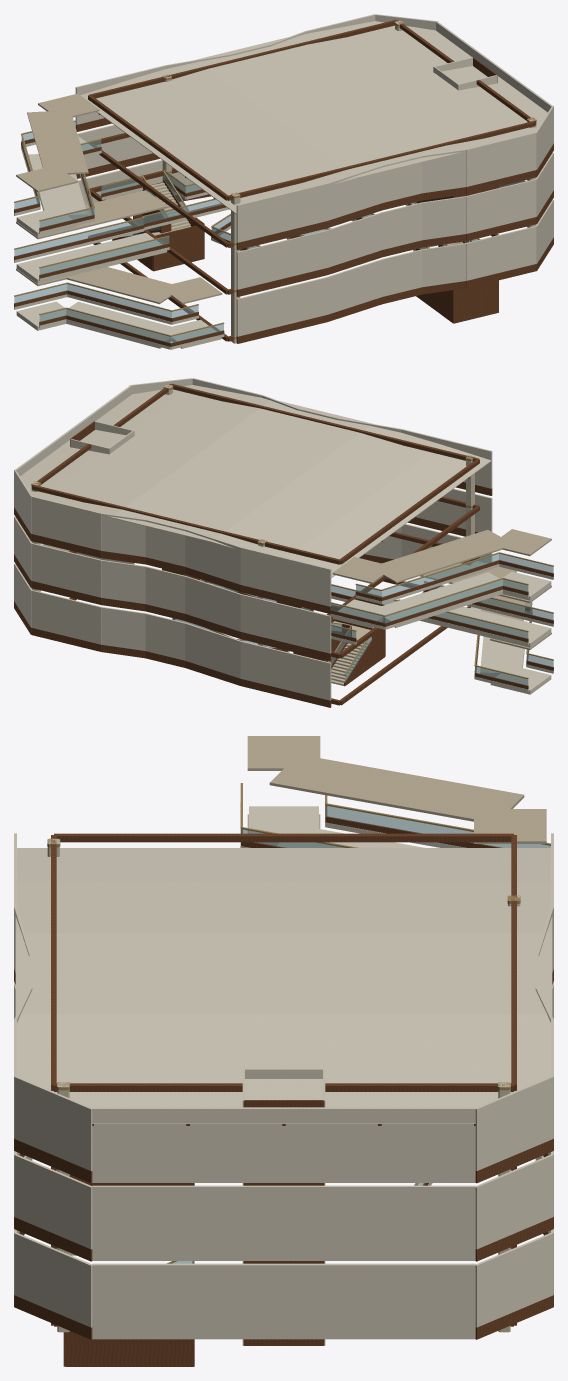
The model's file is AST-COM-003.glb.
The picture shows the model from 3 angles, top to bottom: view 1: azimuth 30°, elevation 25°; view 2: azimuth 150°, elevation 25°; view 3: azimuth 270°, elevation 25°; orthographic projection. The views are drawn at different scales.
Visible parts, largest first — view 1: HC_TopCeiling_2, HC_TopCeiling_1, HC_TopCeiling_3, HC_TopCeiling_0, HC_ProfileWall_D16_1_0, HC_ProfileWall_D17_1_0, HC_ProfileWall_D15_1_0, HC_TopCeiling_4, HC_ArrivalCanopy_D17_1, HC_ProfileWall_D15_1_4, HC_ProfileWall_D16_1_4, HC_ProfileWall_D17_1_4 (+57 smaller); view 2: HC_TopCeiling_2, HC_TopCeiling_1, HC_TopCeiling_3, HC_TopCeiling_0, HC_ProfileWall_D15_-1_0, HC_ProfileWall_D16_-1_0, HC_ProfileWall_D17_-1_0, HC_TopCeiling_4, HC_ArrivalCanopy_D17_1, HC_ProfileWall_D17_-1_4, HC_ProfileWall_D15_-1_4, HC_ProfileWall_D16_-1_4 (+53 smaller); view 3: HC_TopCeiling_2, HC_TopCeiling_3, HC_RearWall_D15, HC_RearWall_D16, HC_RearWall_D17, HC_TopCeiling_1, HC_TopCeiling_0, HC_ArrivalCanopy_D17_1, HC_TopCeiling_4, HC_ProfileWall_D16_-1_5, HC_ProfileWall_D16_1_5, HC_ProfileWall_D15_-1_5 (+24 smaller).
Boxes of the visible parts, x1,y1,x2,y2 form: HC_TopCeiling_2: (196, 36, 456, 178); HC_TopCeiling_1: (126, 62, 356, 193); HC_TopCeiling_3: (297, 21, 528, 153); HC_TopCeiling_0: (80, 81, 280, 214); HC_ProfileWall_D16_1_0: (236, 230, 327, 289); HC_ProfileWall_D17_1_0: (236, 183, 327, 242); HC_ProfileWall_D15_1_0: (236, 277, 327, 336); HC_TopCeiling_4: (376, 21, 547, 133); HC_ArrivalCanopy_D17_1: (27, 111, 88, 174); HC_ProfileWall_D15_1_4: (466, 226, 536, 280); HC_ProfileWall_D16_1_4: (466, 179, 536, 233); HC_ProfileWall_D17_1_4: (466, 132, 536, 186); HC_TopCeiling_2: (111, 400, 371, 541); HC_TopCeiling_1: (211, 423, 440, 557); HC_TopCeiling_3: (39, 385, 270, 517); HC_TopCeiling_0: (287, 444, 491, 578); HC_ProfileWall_D15_-1_0: (240, 641, 331, 700); HC_ProfileWall_D16_-1_0: (240, 594, 331, 653); HC_ProfileWall_D17_-1_0: (240, 547, 331, 606); HC_TopCeiling_4: (20, 385, 191, 497); HC_ArrivalCanopy_D17_1: (371, 529, 511, 583); HC_ProfileWall_D17_-1_4: (31, 496, 101, 550); HC_ProfileWall_D15_-1_4: (31, 590, 101, 644); HC_ProfileWall_D16_-1_4: (31, 543, 101, 597); HC_TopCeiling_2: (15, 933, 552, 1013); HC_TopCeiling_3: (15, 1014, 552, 1086); HC_RearWall_D15: (92, 1263, 475, 1339); HC_RearWall_D16: (92, 1185, 475, 1260); HC_RearWall_D17: (92, 1107, 475, 1182); HC_TopCeiling_1: (15, 882, 552, 932); HC_TopCeiling_0: (17, 848, 550, 882); HC_ArrivalCanopy_D17_1: (269, 755, 524, 822); HC_TopCeiling_4: (42, 1086, 525, 1124); HC_ProfileWall_D16_-1_5: (475, 1154, 553, 1249); HC_ProfileWall_D16_1_5: (14, 1154, 92, 1249); HC_ProfileWall_D15_-1_5: (475, 1233, 553, 1327).
Size of the model in its own units: 47.06 by 17.76 by 28.16.
7 materials, 5 textured.
